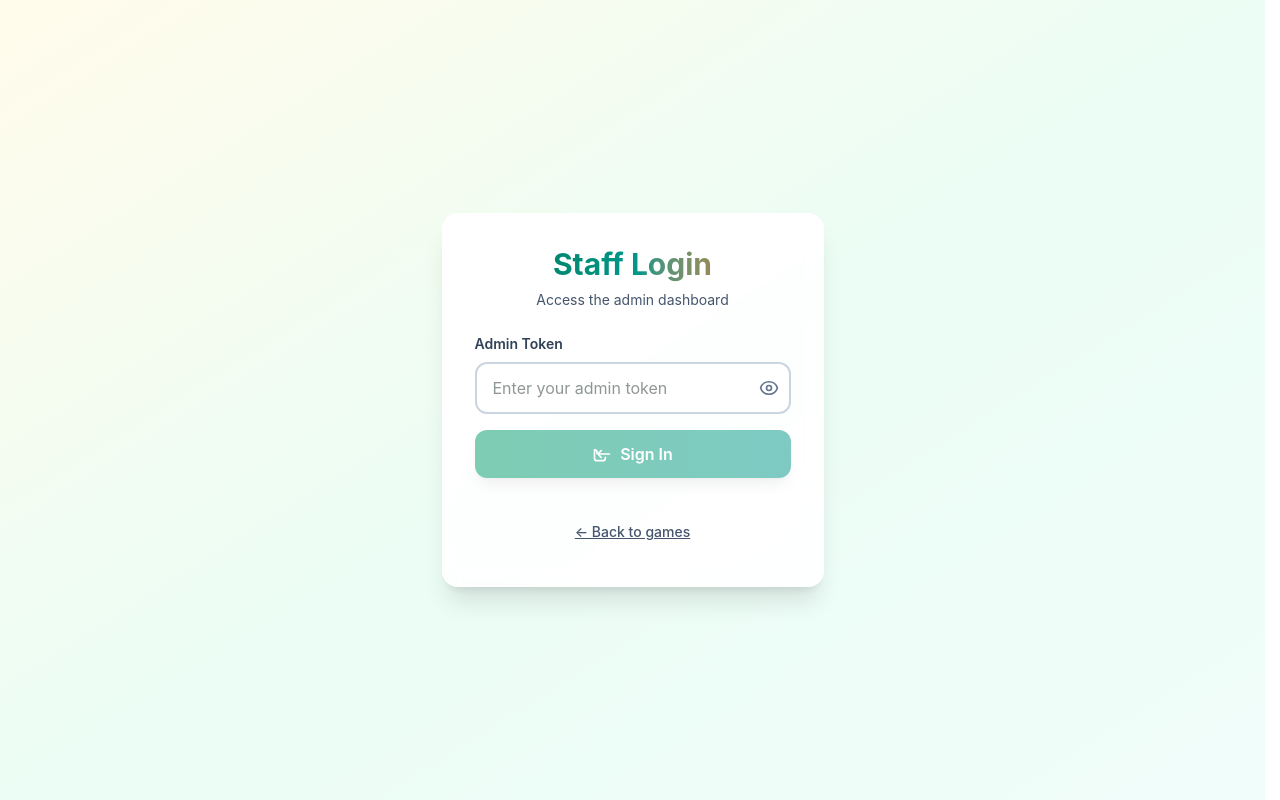
it: AdminLogin Page › validates minimum token length
This screenshot has width=1280, height=800.
Type "short" into the password field labelled "Admin Token" at coordinates (632, 388), box [474,362,790,414]
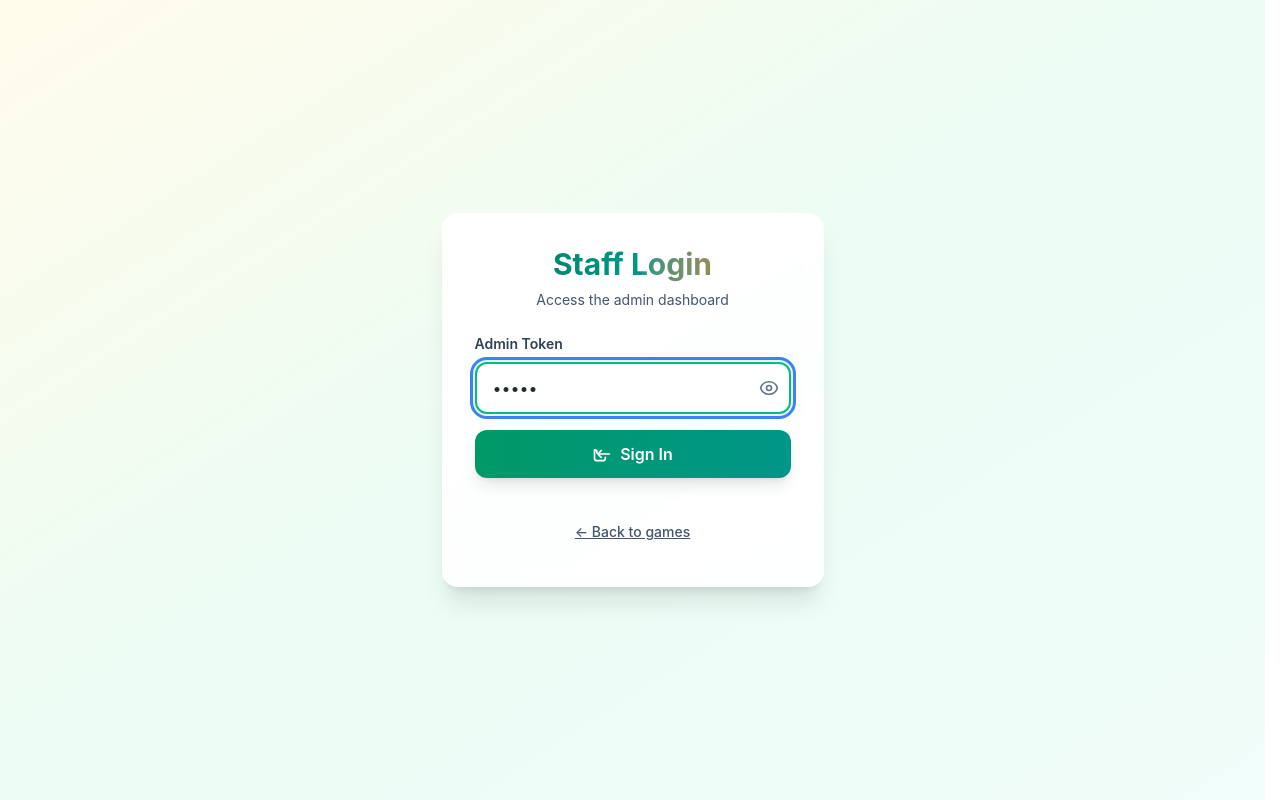
Click the button "Sign In" at coordinates (632, 454), box [474,430,790,478]
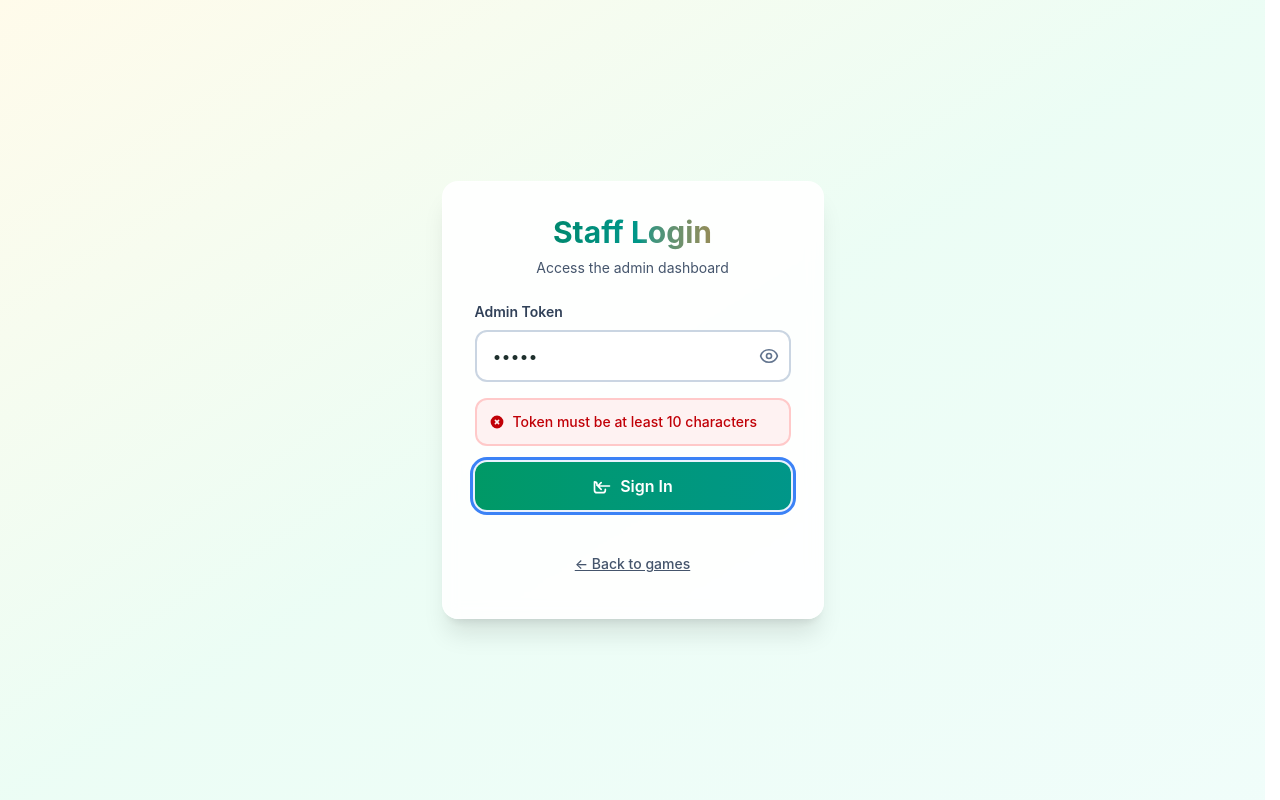
Check: the text "Token must be at least 10 characters" is shown, box [488,412,776,432]
